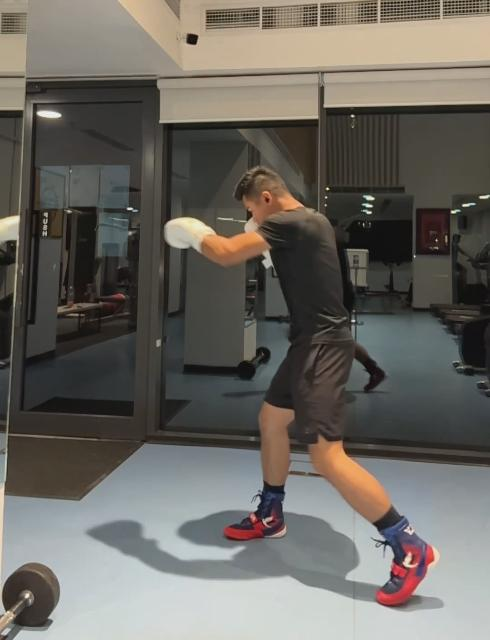punch: (164, 165, 438, 609)
